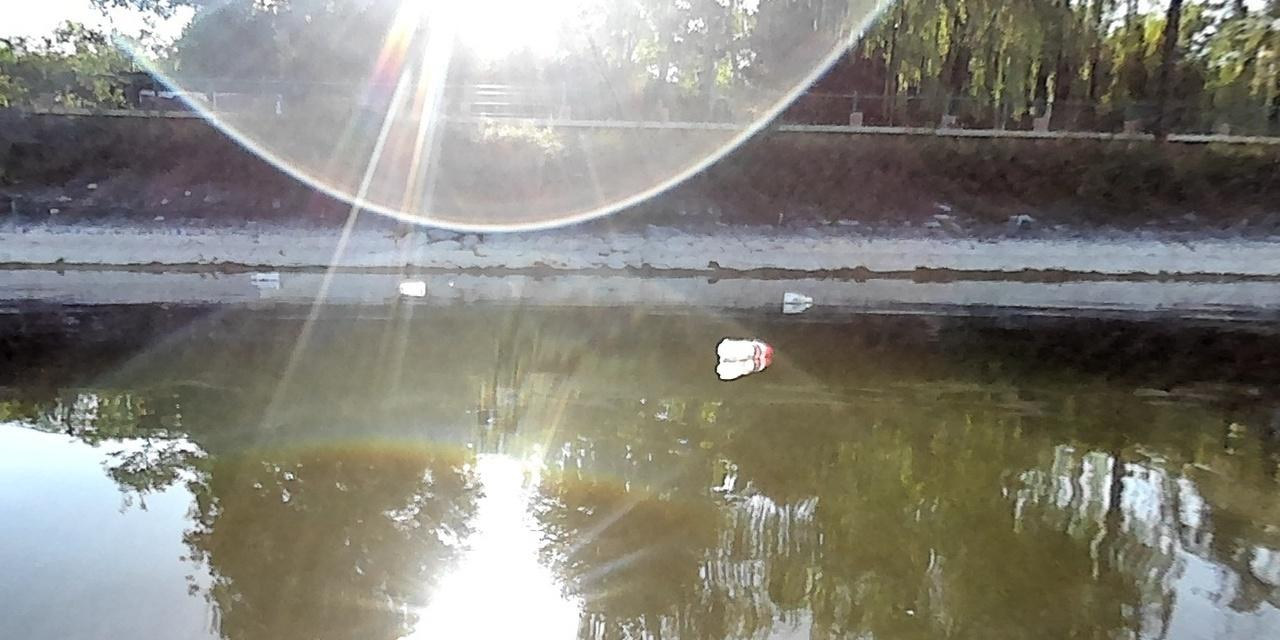bottle: (714, 335, 775, 362), (780, 288, 813, 305), (246, 266, 281, 282), (395, 277, 427, 291)
